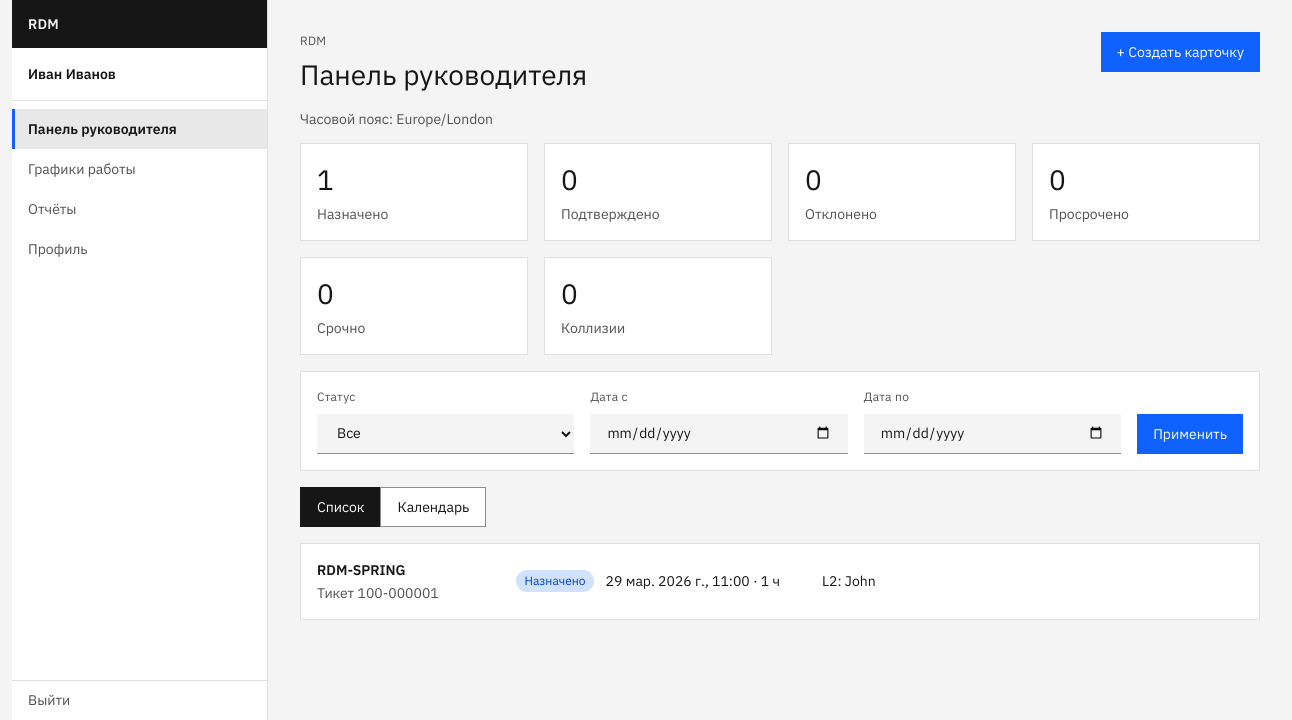
FE-03 Profile Timezone in UI › falls back safely to list with explicit notice on spring DST transition in a DST zone (Europe/London)
The width and height of the screenshot is (1292, 720).
# Filter to the spring DST transition day: 2026-03-29
In the date field labelled "Дата с": (719, 434) [590,414,848,454], type "2026-03-29"
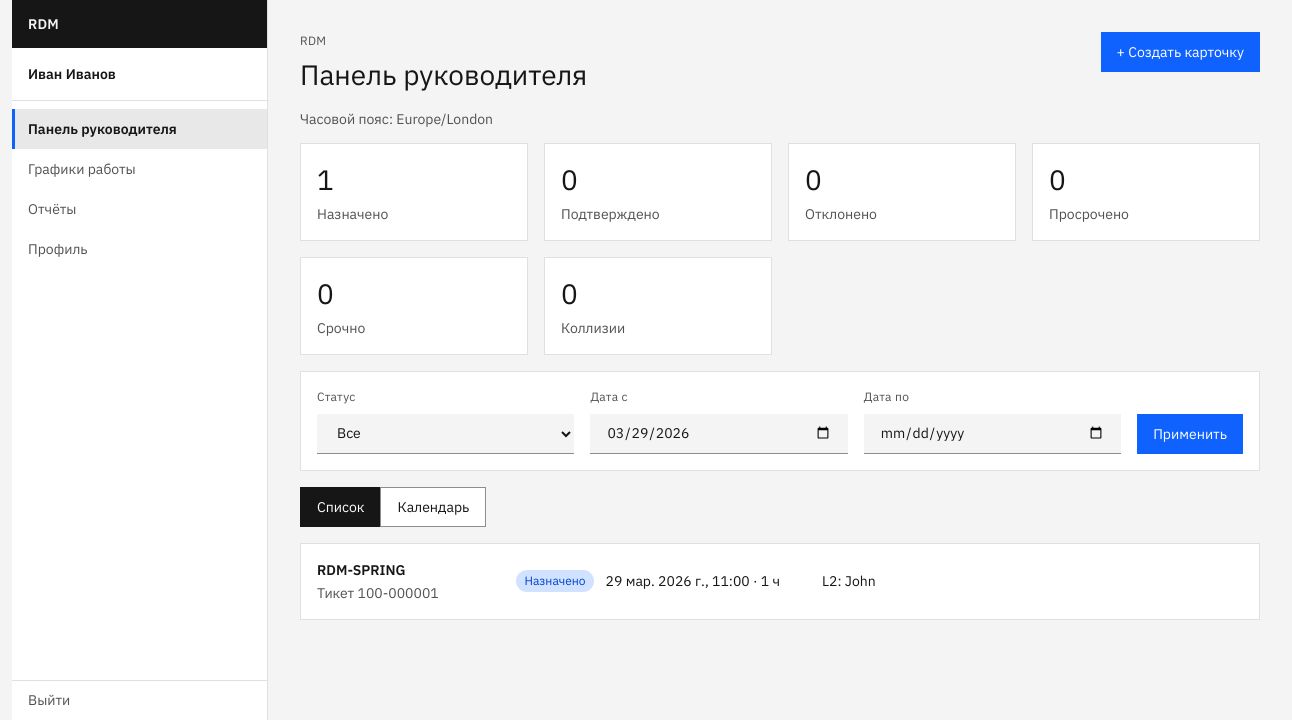
In the date field labelled "Дата по": (992, 434) [864,414,1121,454], type "2026-03-29"
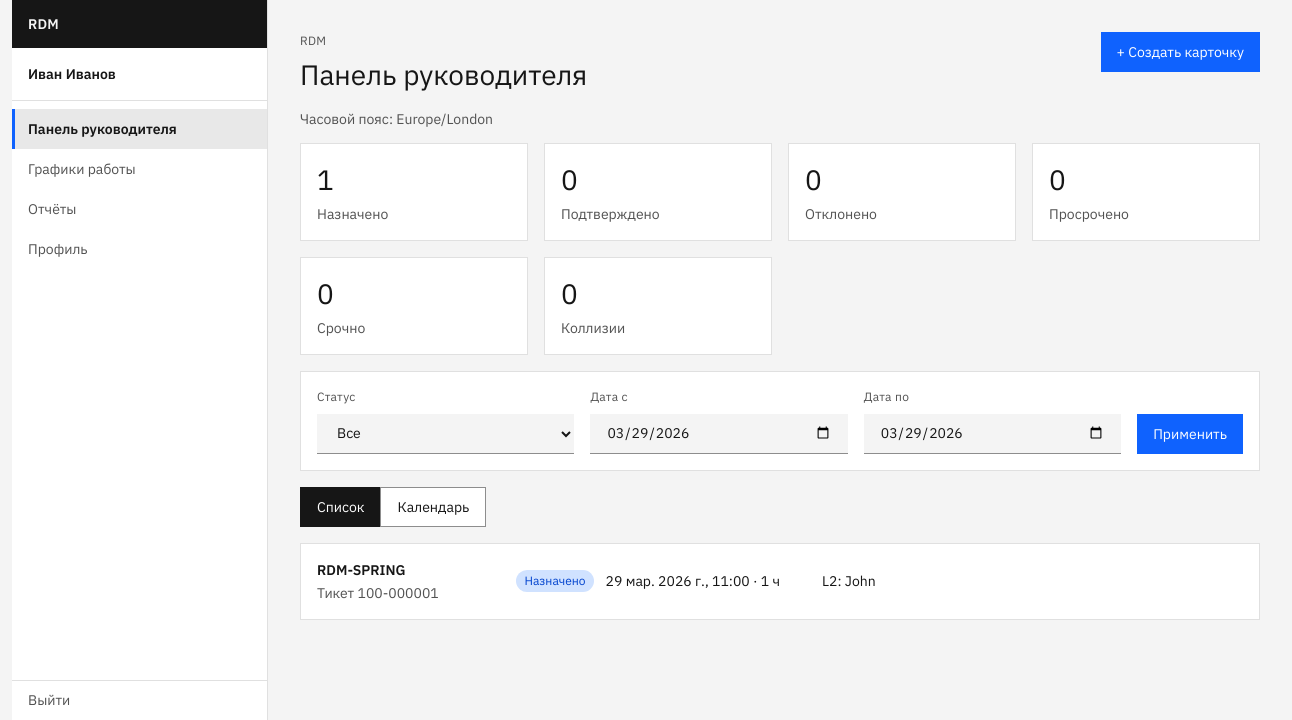
Submit the form with class "manager-filters", box [300,371,1260,471]
# Toggle to calendar view
Click the button "Календарь": (433, 506) [380,486,486,526]
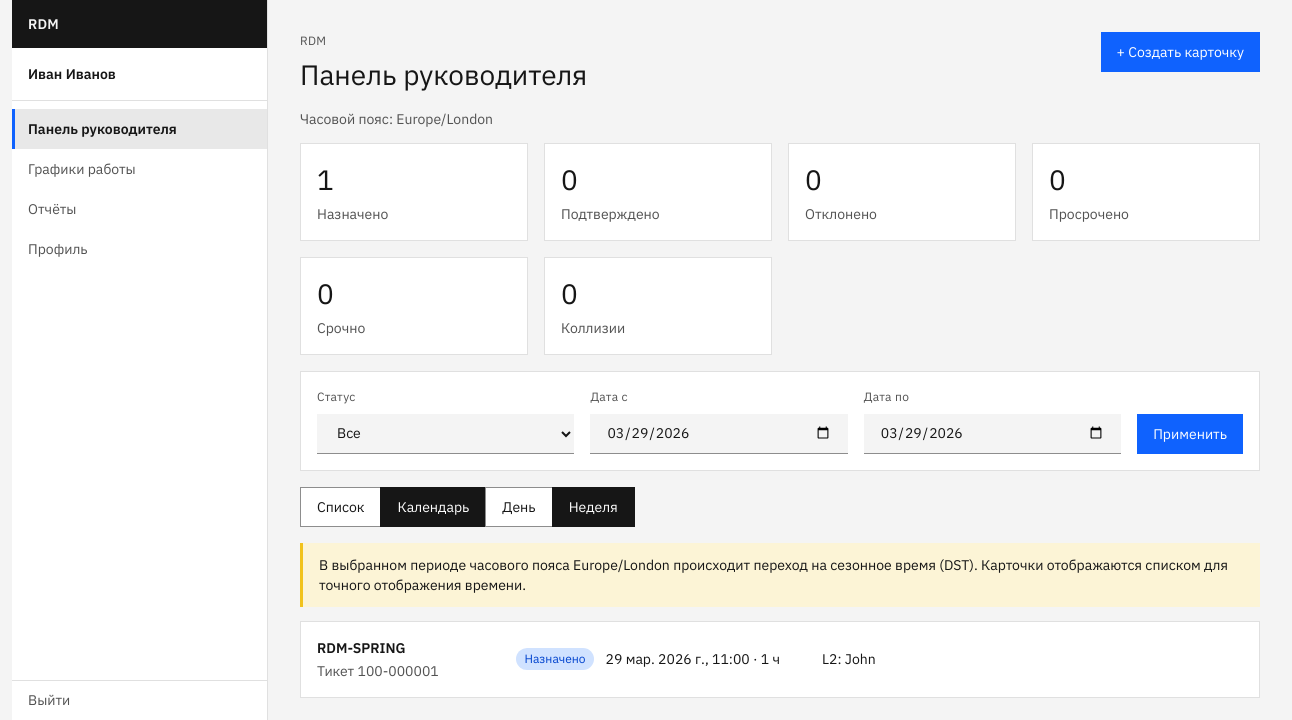
Expected: the text "RDM-SPRING" is shown, [317,639,406,657]
Expected: the message with class "dst-notice" is shown, [300,542,1260,606]
Expected: the text "переход на сезонное время (DST)" is shown, [319,556,1228,594]
